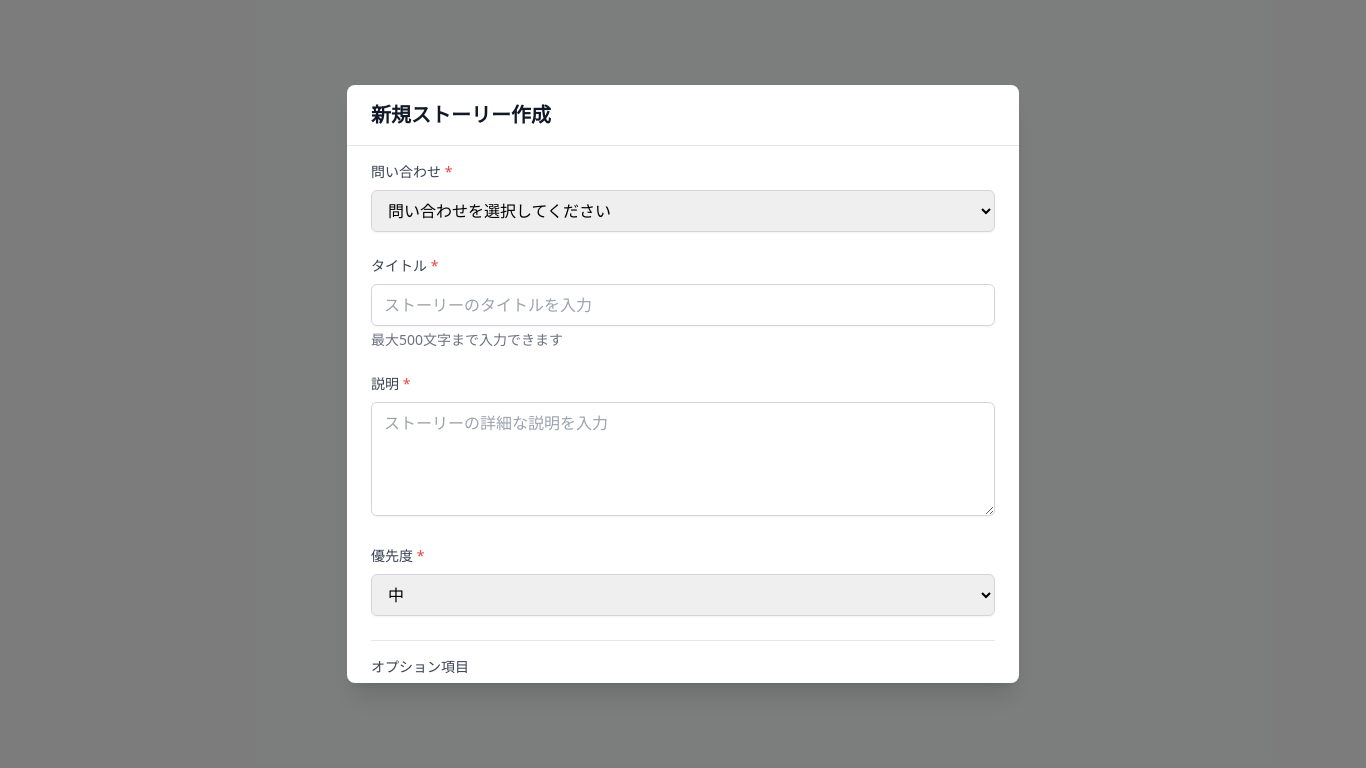
it: StoryForm › バリデーション › 説明が空の場合、バリデーションエラーが表示されること
The width and height of the screenshot is (1366, 768).
問い合わせを選択
Select "ログイン機能を追加してほしい" in the dropdown labelled "問い合わせ *" at (683, 211), box [371,190,995,232]
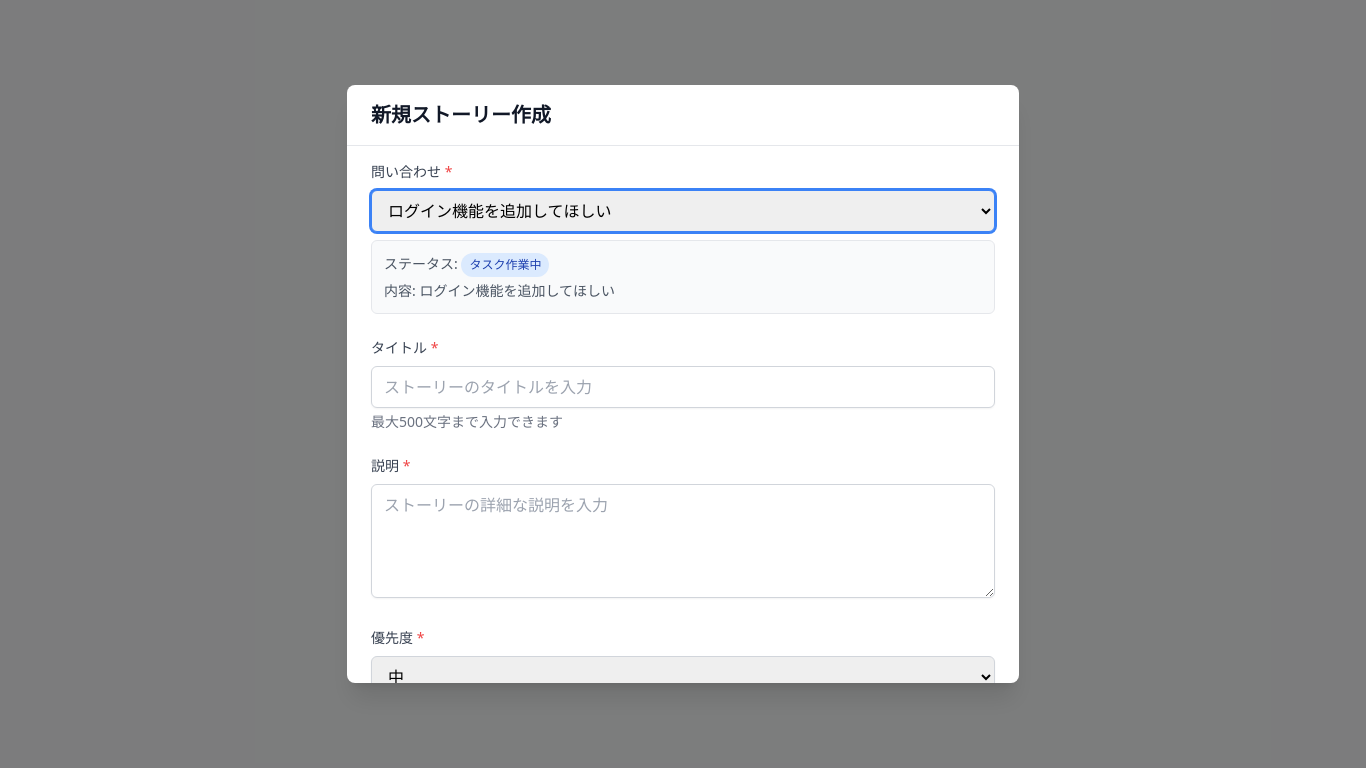
タイトルのみ入力し、説明は空のまま
Type "テストストーリー" into the field labelled "タイトル *".
click(683, 387); type("テストストーリー")  # box [371,366,995,408]
(page scrolled)
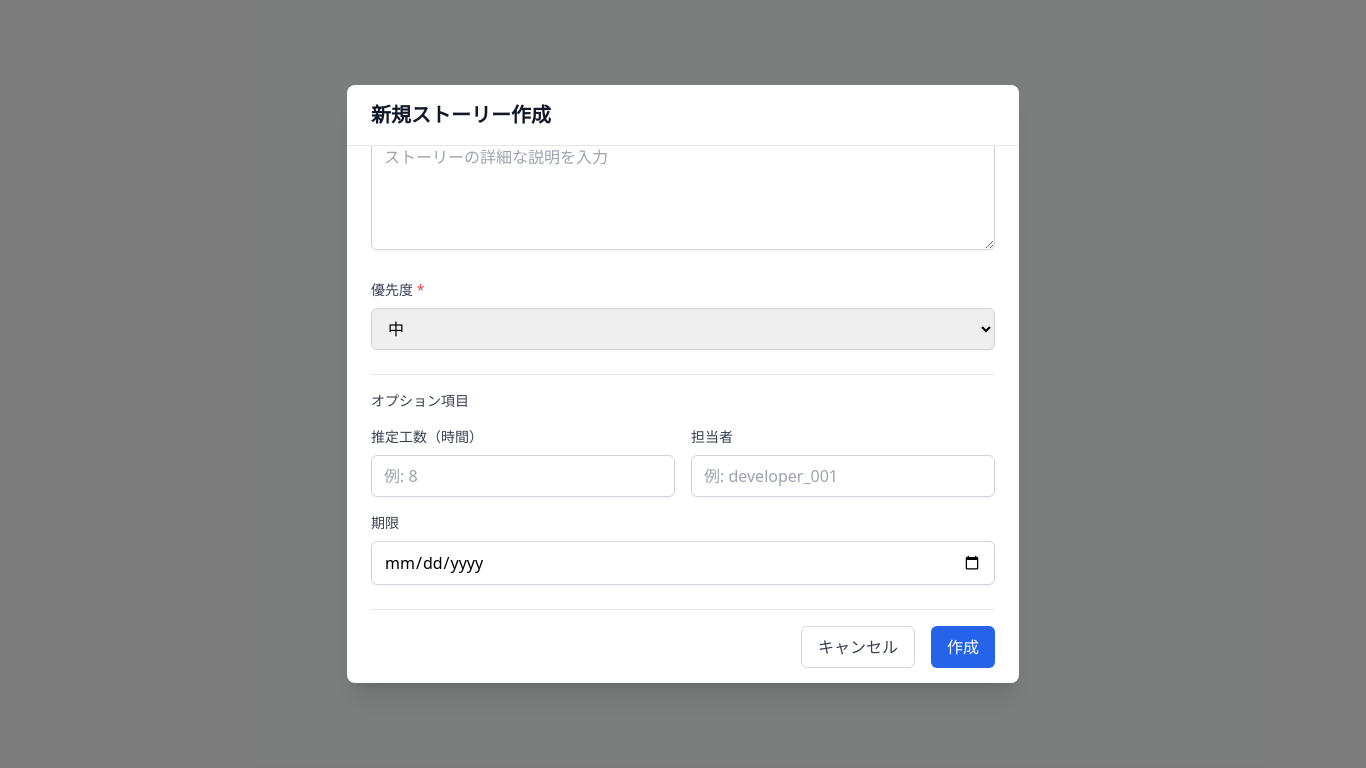
送信ボタンをクリック
Click the button "作成".
click(963, 647)  # box [931,626,995,668]
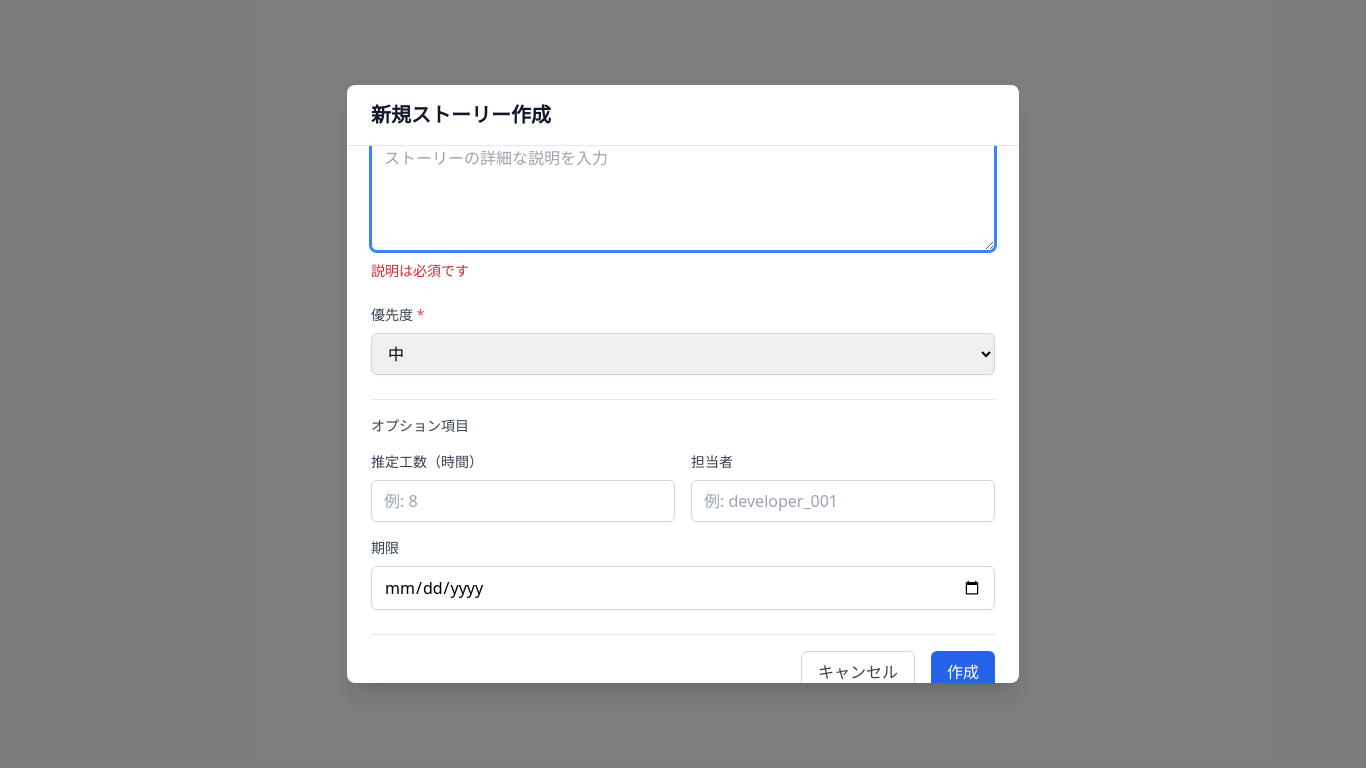
Check: the text "説明は必須です" is shown, box [371,261,469,280]
